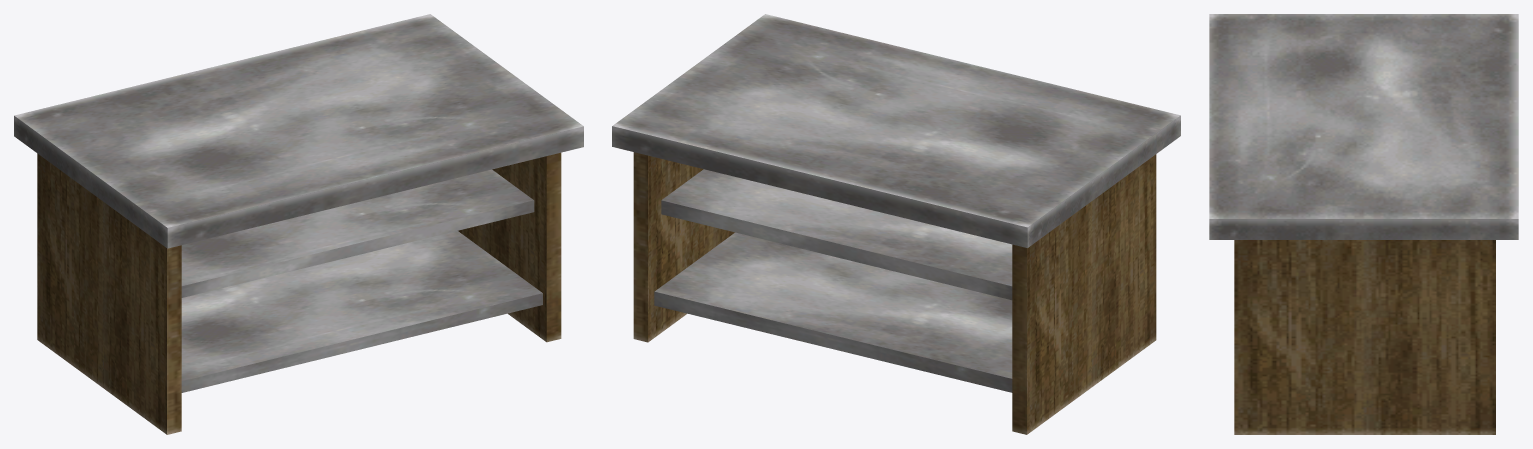
Rendered from cj_df_worktop.obj.
The picture shows the model from 3 angles, left to right: view 1: azimuth 30°, elevation 25°; view 2: azimuth 150°, elevation 25°; view 3: azimuth 270°, elevation 25°; orthographic projection.
Visible parts, largest first — view 1: CJ_DF_WORKTOP; view 2: CJ_DF_WORKTOP; view 3: CJ_DF_WORKTOP.
Boxes of the visible parts, x1,y1,x2,y2 form: CJ_DF_WORKTOP: (14, 14, 583, 434); CJ_DF_WORKTOP: (612, 14, 1180, 434); CJ_DF_WORKTOP: (1209, 14, 1518, 434).
Bounding box in the file's own units: 1.89 × 0.9503 × 1.21.
2 materials, 2 textured.
